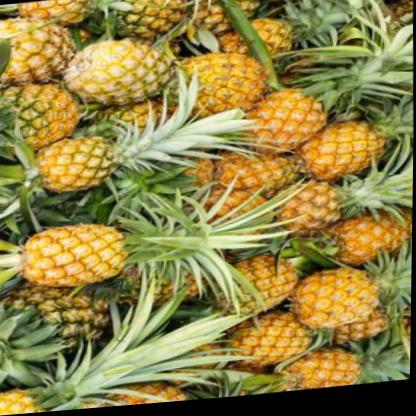pineapple: (27, 84, 235, 201), (0, 325, 177, 416), (0, 217, 139, 296), (55, 32, 189, 113), (285, 258, 413, 337), (298, 111, 407, 192), (241, 83, 347, 164), (93, 369, 295, 410)
